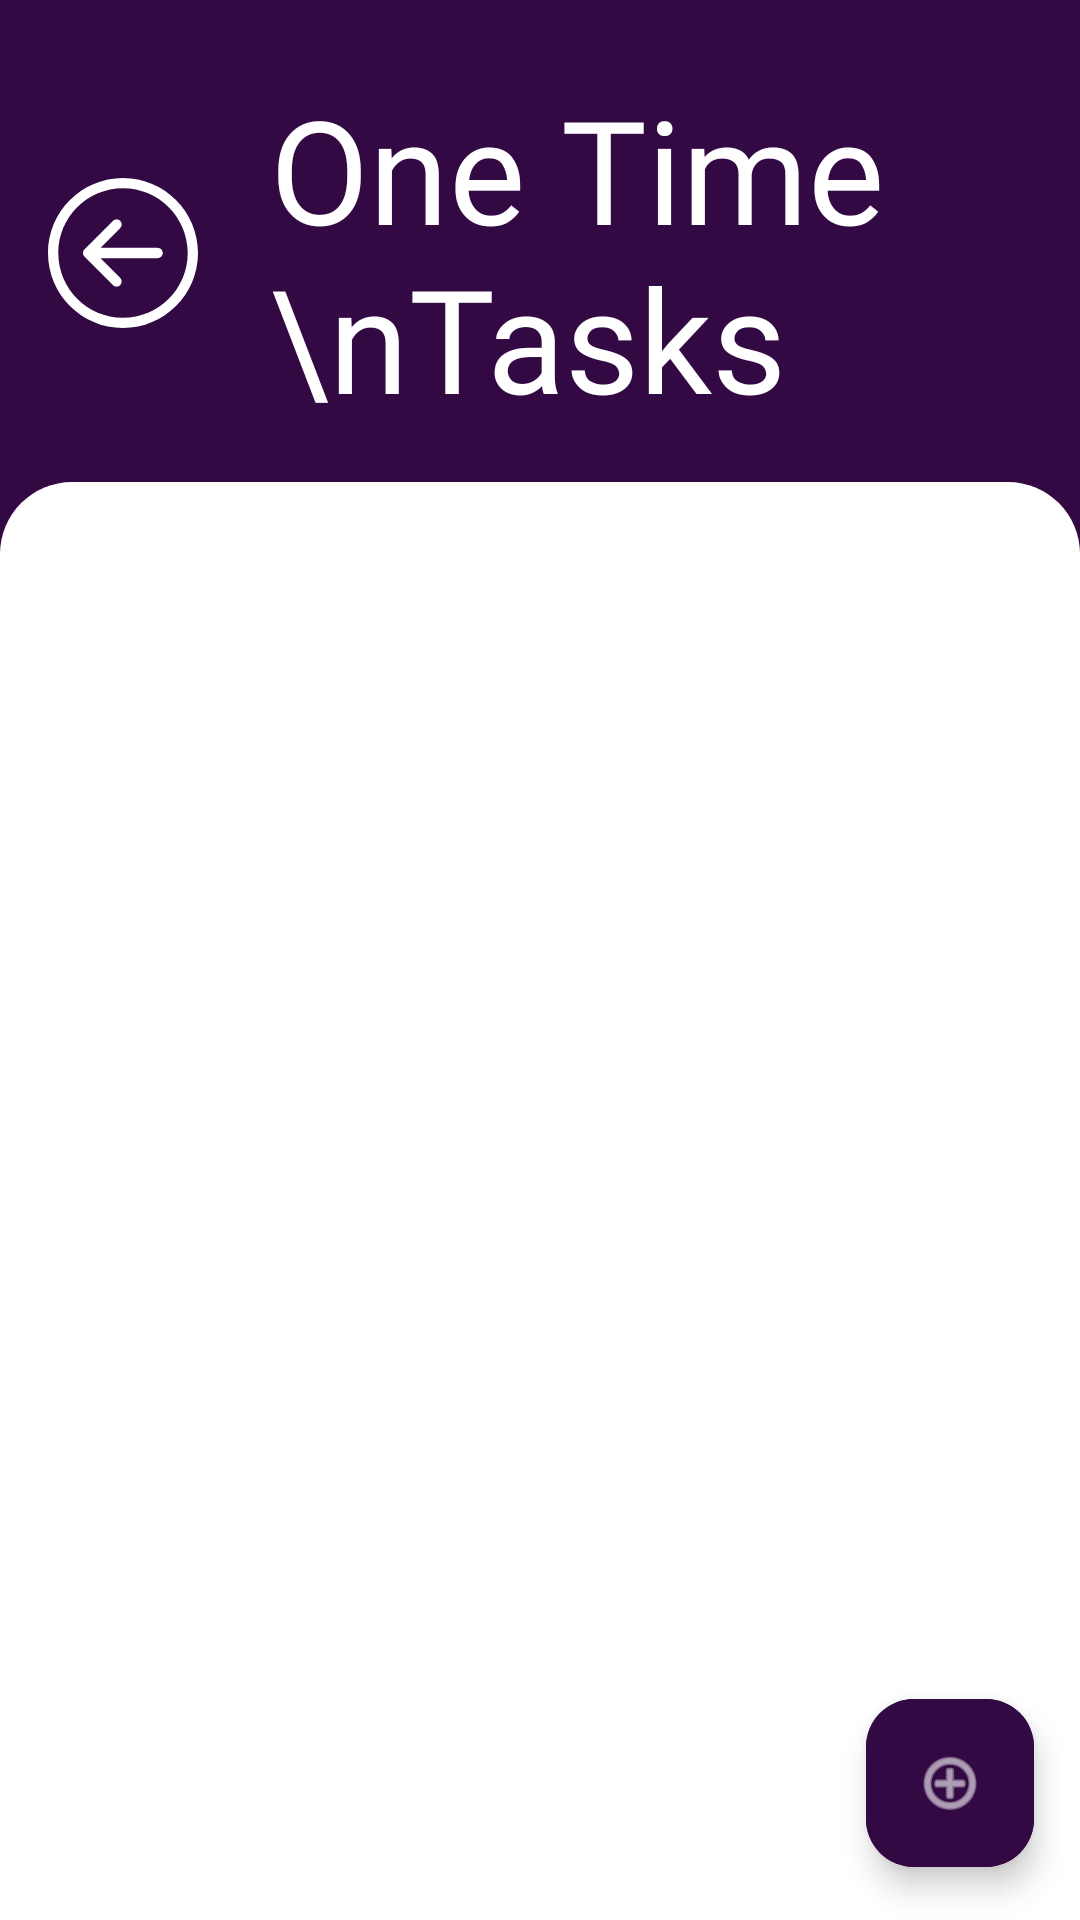

Icons on this 1080px x 1920px Android screen, each with its box as bbox=(x1, y1, x2, y2):
Add New Task: bbox=(866, 1699, 1034, 1867)
back: bbox=(48, 178, 198, 328)
